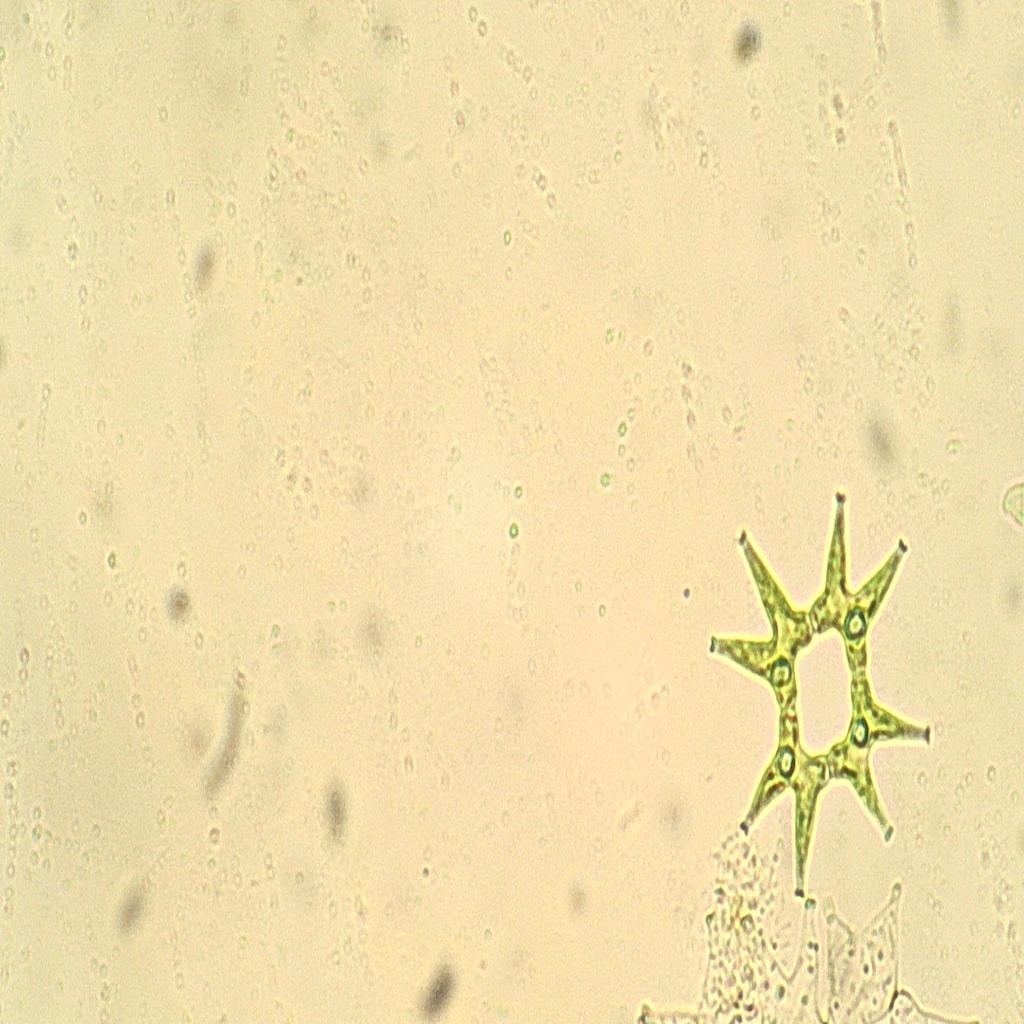Pediastrum_75O: (703, 462, 943, 920)
